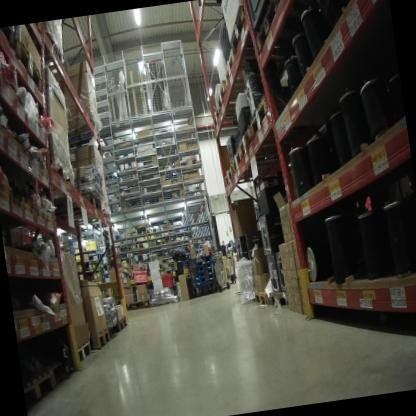pallet: (50, 186, 113, 355), (221, 46, 268, 95), (213, 70, 263, 116), (221, 157, 286, 191), (249, 90, 292, 139), (226, 6, 260, 61), (30, 23, 67, 73), (21, 368, 59, 413), (251, 0, 285, 50), (16, 36, 44, 96), (44, 149, 76, 189), (210, 101, 244, 132), (73, 330, 96, 370), (235, 121, 256, 159), (119, 293, 152, 313), (230, 141, 245, 180), (0, 25, 21, 50), (104, 321, 120, 344), (115, 315, 132, 336)
